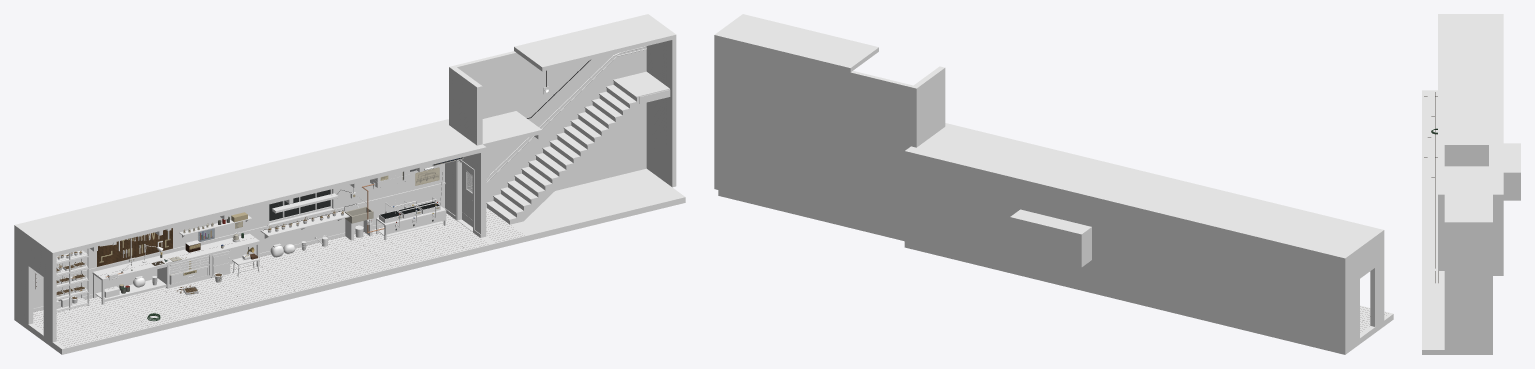
3 views of the same model, side by side, from view 1: azimuth 30°, elevation 25°; view 2: azimuth 150°, elevation 25°; view 3: azimuth 270°, elevation 25° (orthographic). The views are drawn at different scales.
Visible parts, largest first — view 1: Att17Set, MECH_Door_dl17_stairDoor; view 2: Att17Set; view 3: Att17Set.
Part boxes in pixels (x1=…): Att17Set: x1=14, y1=14, x2=685, y2=354; MECH_Door_dl17_stairDoor: x1=462, y1=163, x2=472, y2=227; Att17Set: x1=714, y1=14, x2=1393, y2=354; Att17Set: x1=1422, y1=14, x2=1520, y2=354.
Size of the model in its own units: 23.16 by 5.55 by 3.7.
Materials: 30 (2 with a texture image).
